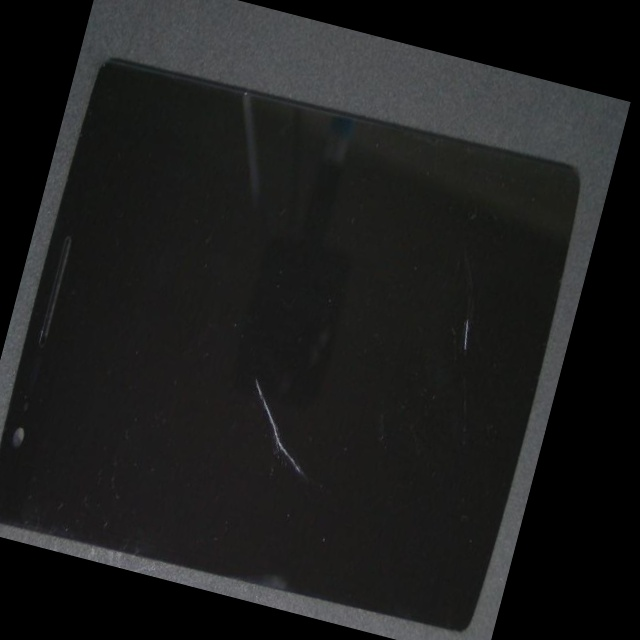scratch: (169, 282, 485, 640), (236, 168, 593, 467)
